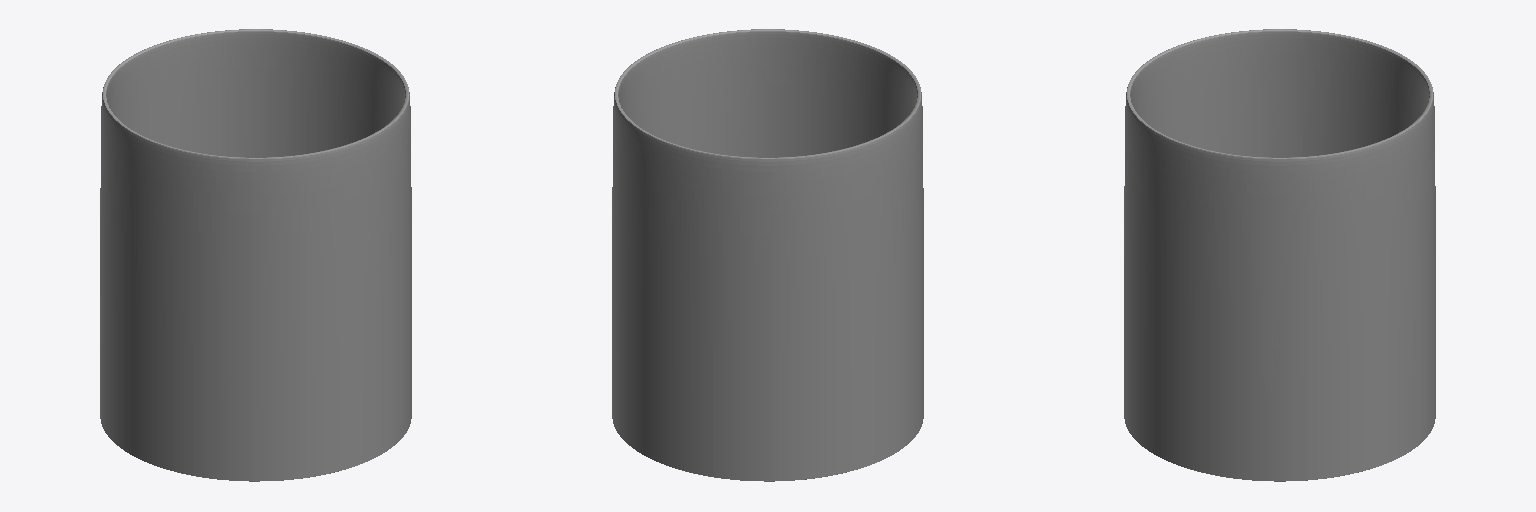
File: Norm_Mug.obj
3 views of the same model, side by side, from view 1: azimuth 30°, elevation 25°; view 2: azimuth 150°, elevation 25°; view 3: azimuth 270°, elevation 25° (orthographic).
Visible parts, largest first — view 1: Norm_Mug_Circle.006; view 2: Norm_Mug_Circle.006; view 3: Norm_Mug_Circle.006.
Part boxes in pixels (bbox=[...]): Norm_Mug_Circle.006: bbox=[100, 29, 411, 481]; Norm_Mug_Circle.006: bbox=[612, 29, 923, 481]; Norm_Mug_Circle.006: bbox=[1124, 29, 1435, 481].
Bounding box in the file's own units: 0.1775 × 0.204 × 0.1775.